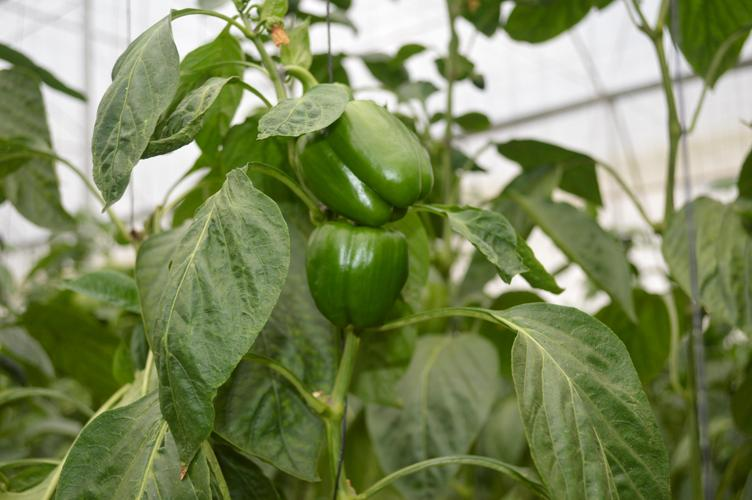BellPepper: (284, 93, 437, 227), (284, 216, 425, 336)
